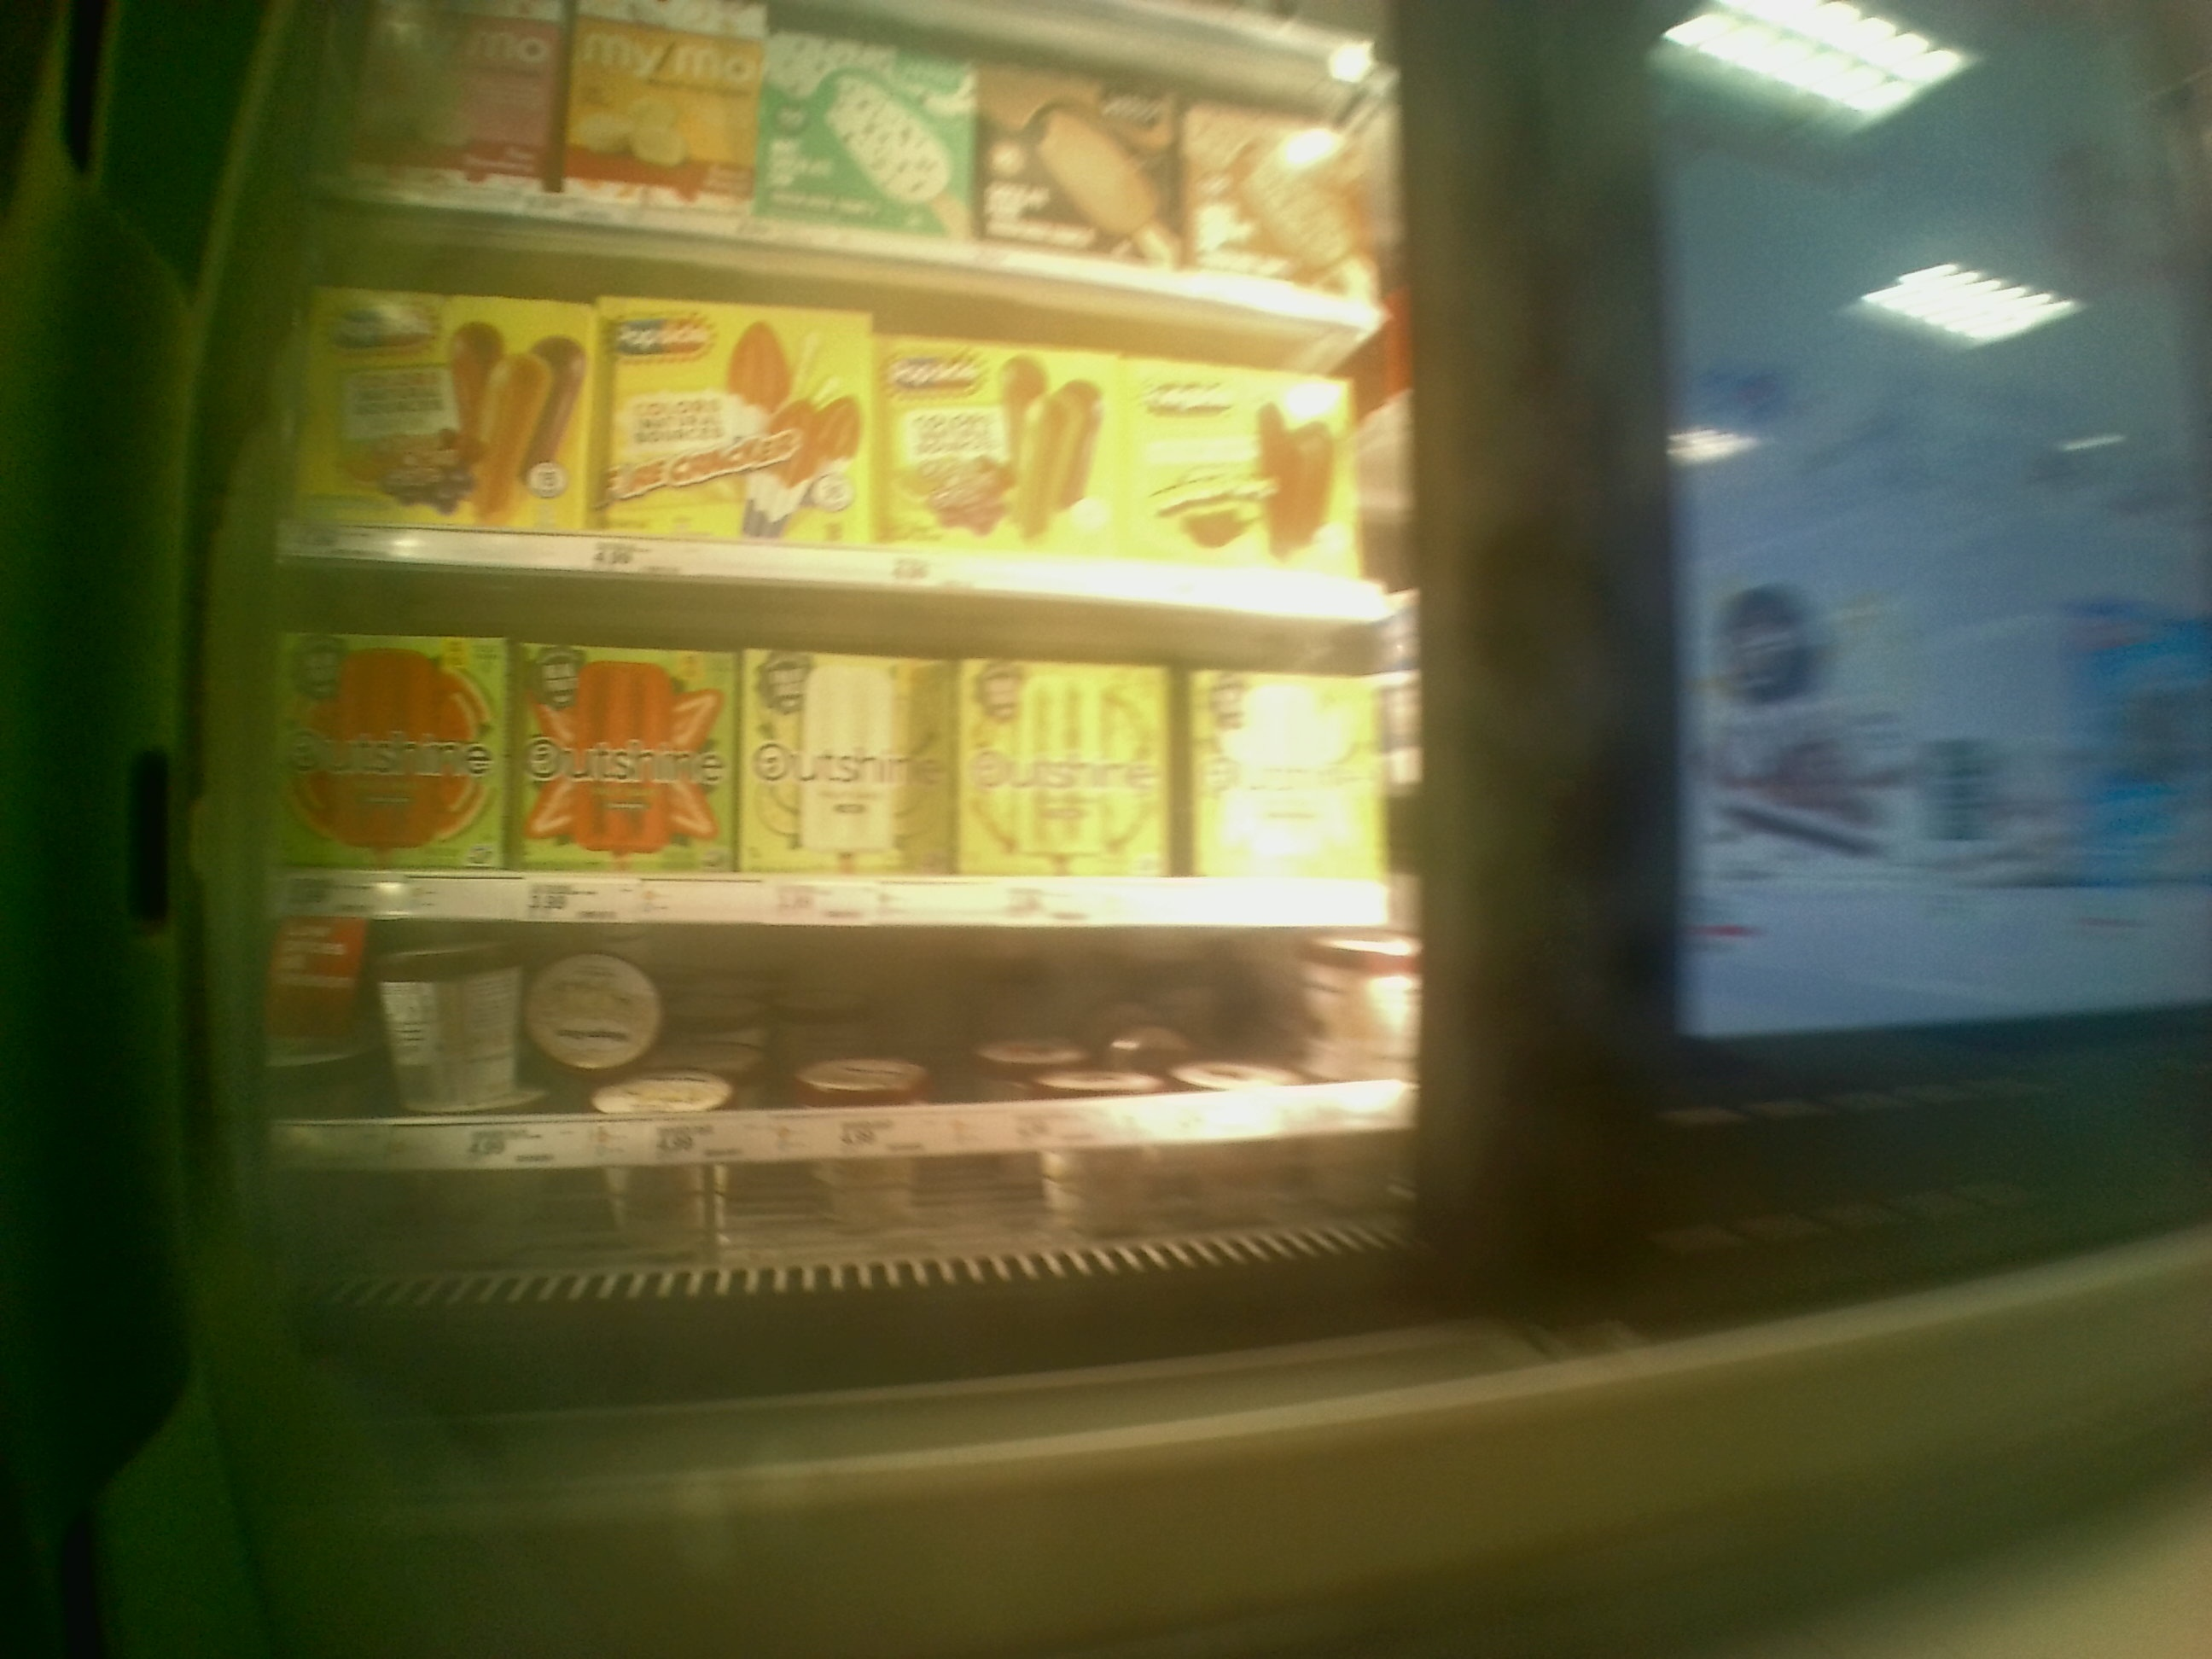ice-cream-shelf: (273, 915, 1416, 1171)
